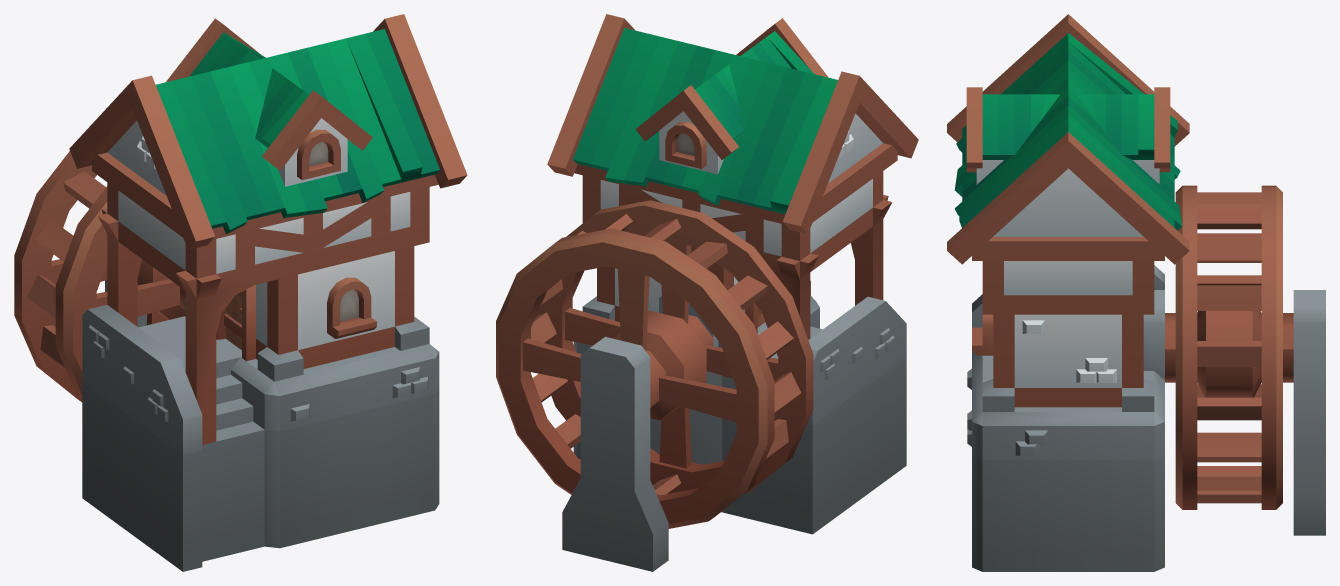
The model's file is building_watermill_green.glb.
3 renders of one model, left to right at view 1: azimuth 30°, elevation 25°; view 2: azimuth 150°, elevation 25°; view 3: azimuth 270°, elevation 25°, orthographic. The views are drawn at different scales.
Parts seen in each view (by area): view 1: building_watermill_green, building_watermill_wheel_green; view 2: building_watermill_green, building_watermill_wheel_green; view 3: building_watermill_green, building_watermill_wheel_green.
Boxes of the visible parts, x1,y1,x2,y2 form: building_watermill_green: (69,14,467,571); building_watermill_wheel_green: (14,151,185,402); building_watermill_green: (547,14,918,571); building_watermill_wheel_green: (496,200,813,528); building_watermill_green: (947,14,1325,571); building_watermill_wheel_green: (1165,185,1293,509).
Bounding box in the file's own units: 1.05 × 1.57 × 1.24.
Materials: 1 (1 with a texture image).
